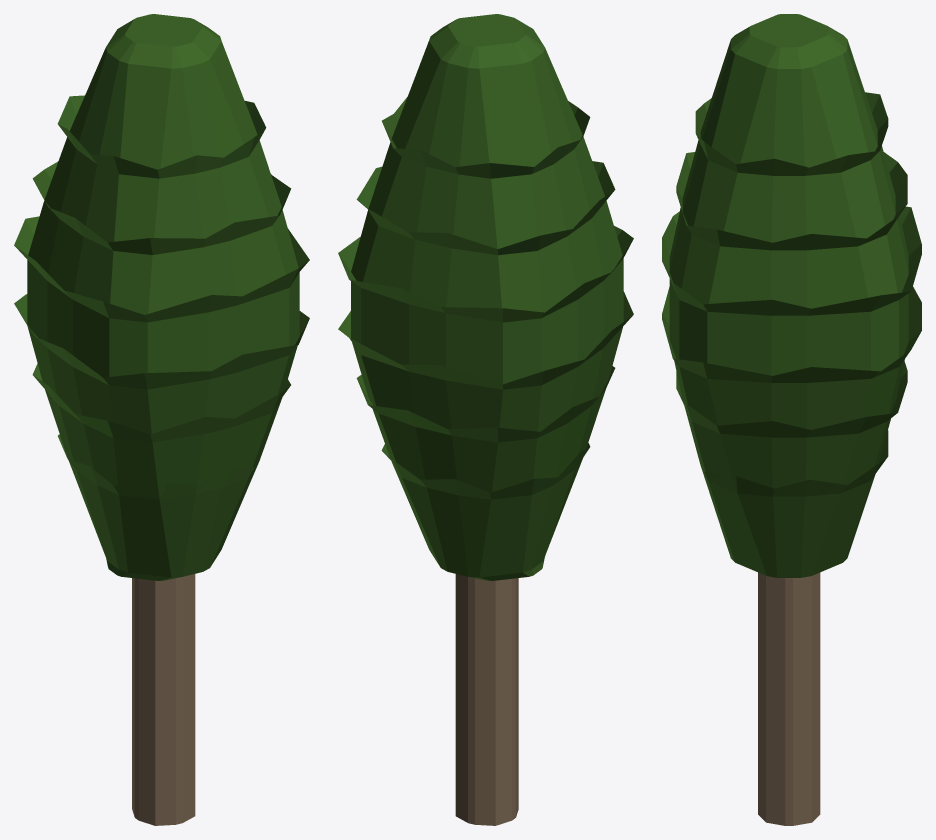
The model's file is TreeSmall.fbx.
3 views of the same model, side by side, from view 1: azimuth 30°, elevation 25°; view 2: azimuth 150°, elevation 25°; view 3: azimuth 270°, elevation 25° (orthographic).
Visible parts, largest first — view 1: smalltree; view 2: smalltree; view 3: smalltree.
Boxes of the visible parts, x1,y1,x2,y2 form: smalltree: (14,14,309,825); smalltree: (338,14,633,825); smalltree: (662,14,921,825).
Size of the model in its own units: 835 by 2775 by 835.
